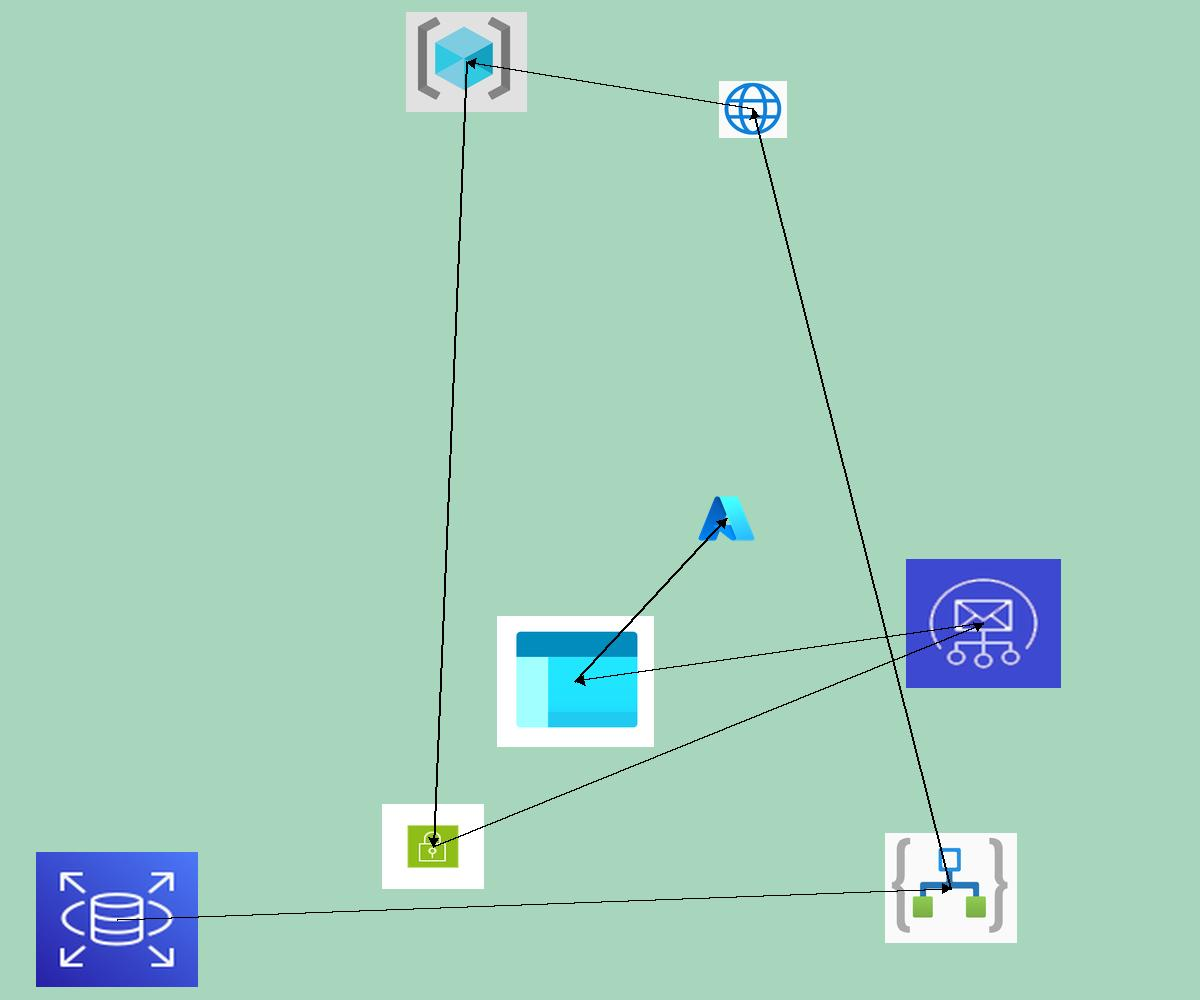AWS-Public-subnet: (382, 804, 484, 889)
AWS-RDS: (36, 852, 198, 987)
AWS-Simple-Email-Service: (906, 559, 1061, 688)
Azure_http: (719, 81, 787, 138)
Azure_integration-204-Logic-Apps: (885, 833, 1017, 943)
Azure_management-portal: (497, 616, 654, 747)
Azure_resource_group: (406, 12, 527, 112)
Azure_services: (696, 493, 757, 544)
